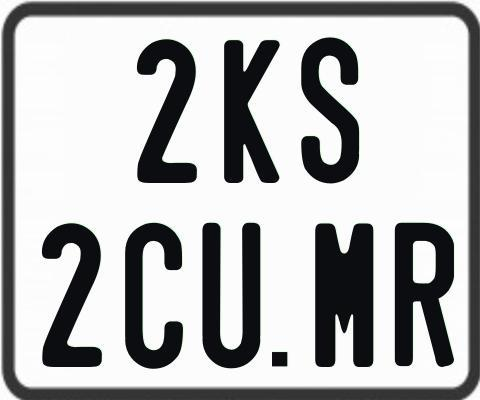2: (40, 220, 103, 366), (134, 38, 196, 185)
C: (124, 223, 182, 375)
K: (221, 38, 277, 186)
M: (313, 222, 377, 367)
R: (394, 223, 457, 372)
S: (299, 37, 362, 186)
U: (202, 223, 263, 373)
